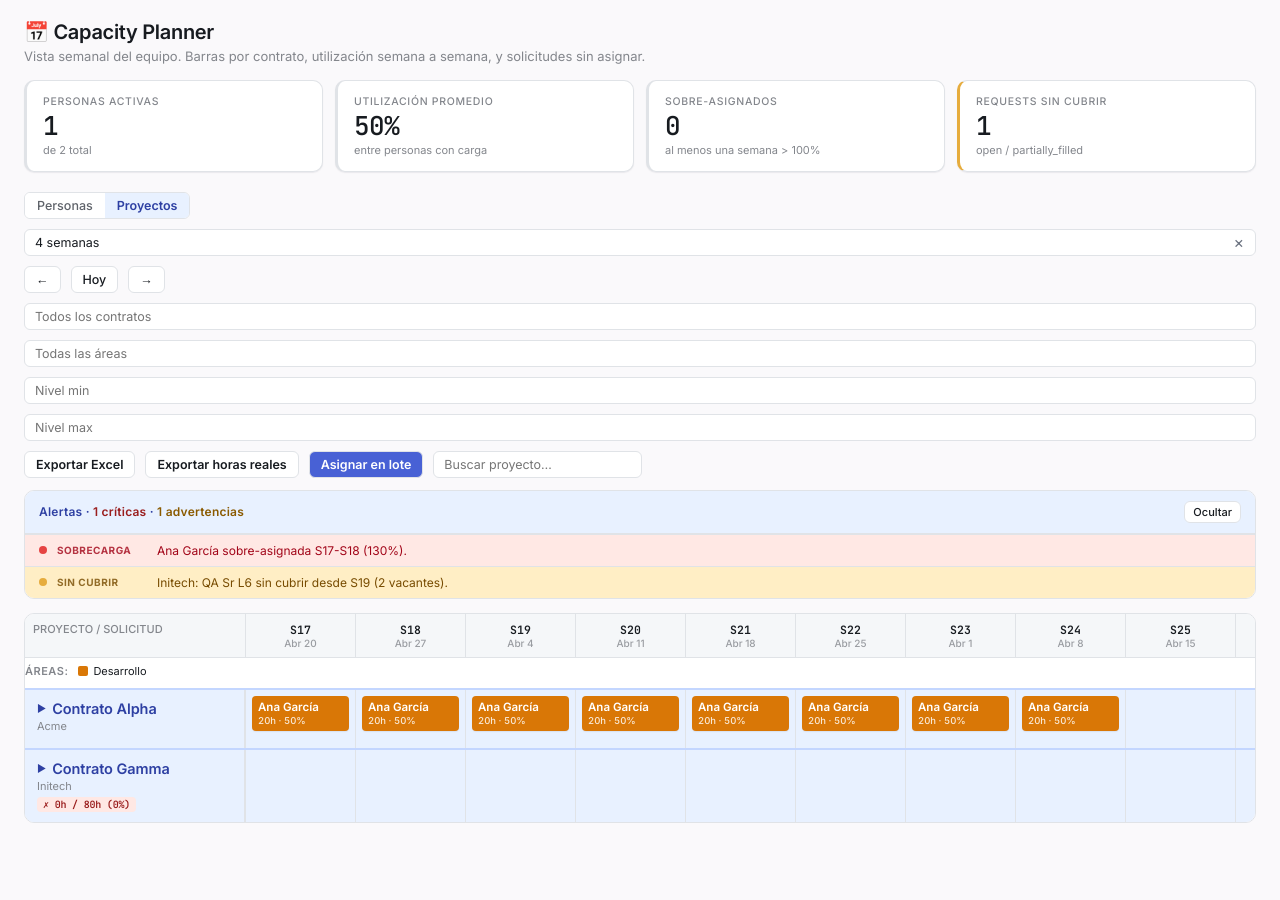
Test case: CapacityPlanner module › projects view renders unfilled requests with dashed "Sin asignar" bars
Step 1. Click the button with test id "contract-row-ct3" → {"x": 652, "y": 785}, box [25,748,1279,822]
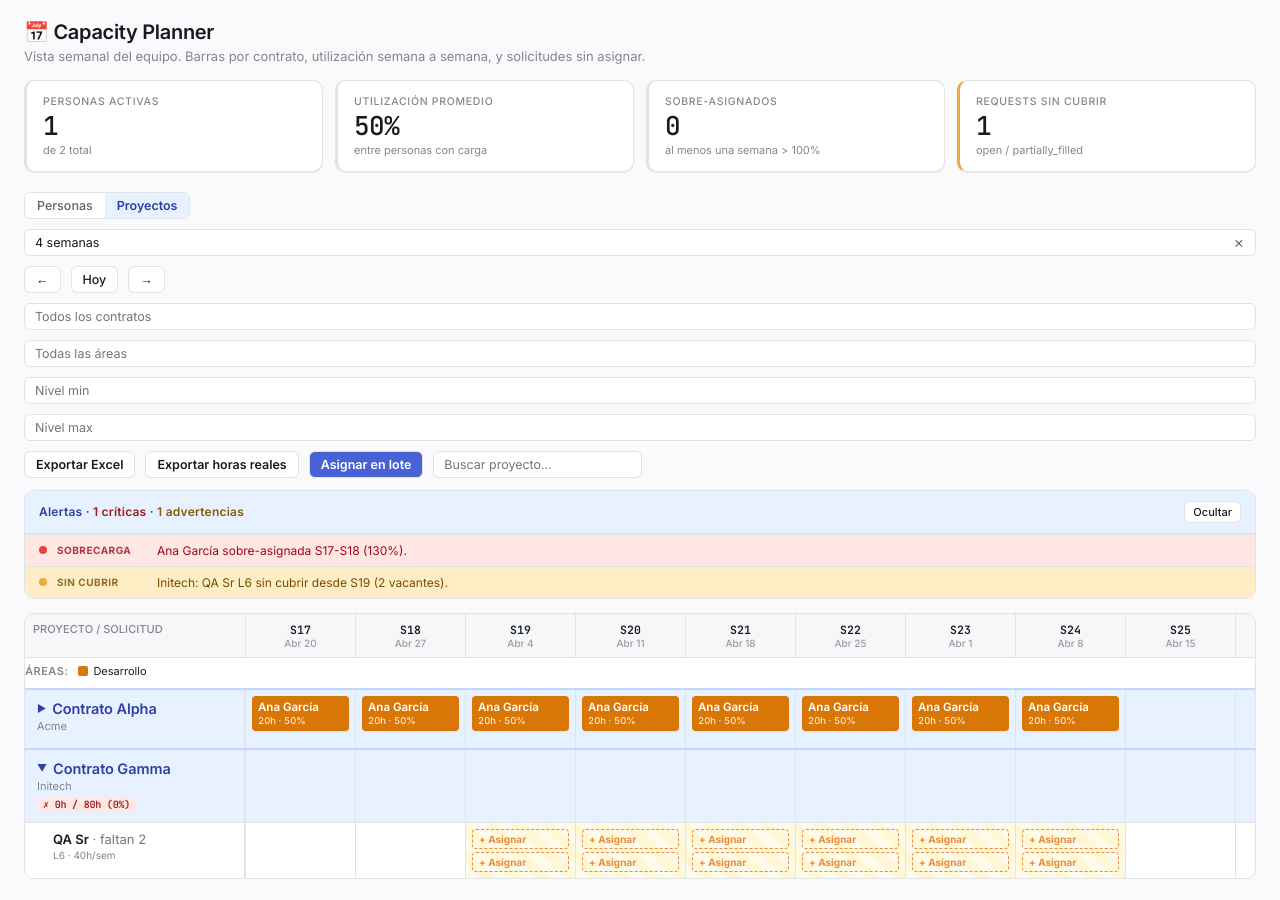
Expected: the 1st text "+ Asignar" is shown, [472,829,569,849]
Expected: the text "· faltan 2" is shown, [89,831,146,847]
